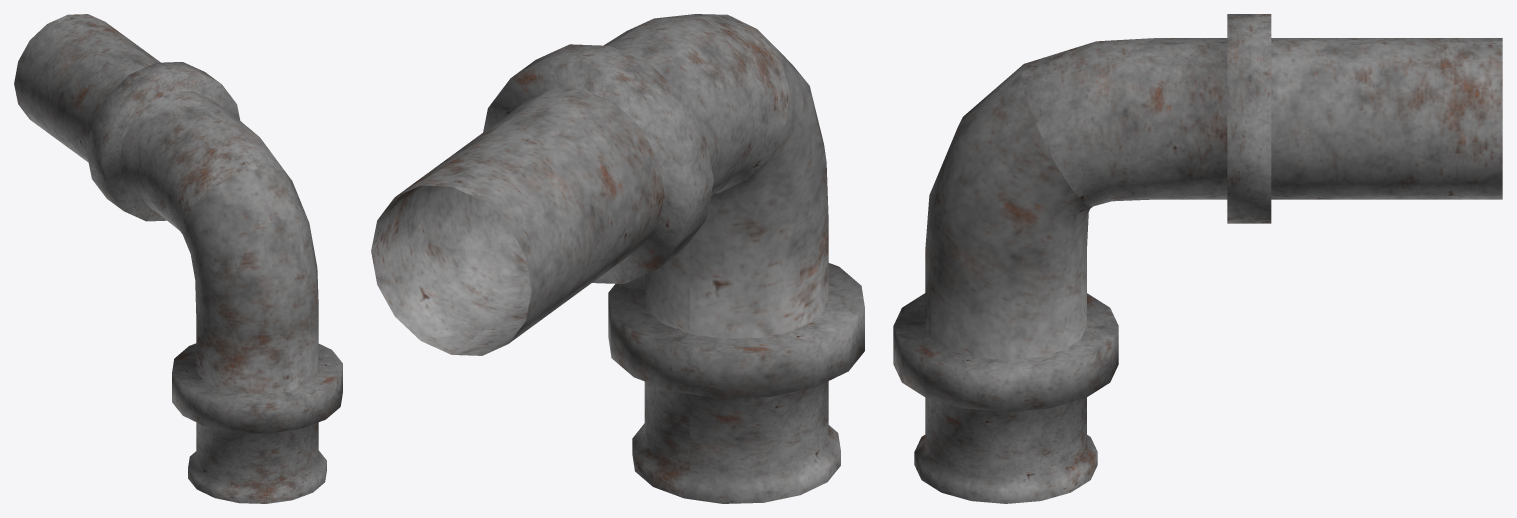
Rendered from grey_bent_pipe1.fbx.
The picture shows the model from 3 angles, left to right: view 1: azimuth 30°, elevation 25°; view 2: azimuth 150°, elevation 25°; view 3: azimuth 270°, elevation 25°; orthographic projection. The views are drawn at different scales.
Visible parts, largest first — view 1: grey_bent_pipe1; view 2: grey_bent_pipe1; view 3: grey_bent_pipe1.
Part boxes in pixels (left/top/right/bottom): grey_bent_pipe1: left=14, top=14, right=342, bottom=503; grey_bent_pipe1: left=371, top=14, right=864, bottom=503; grey_bent_pipe1: left=893, top=14, right=1502, bottom=503.
Bounding box in the file's own units: 36.54 × 78.97 × 98.74.
Materials: 1 (1 with a texture image).
